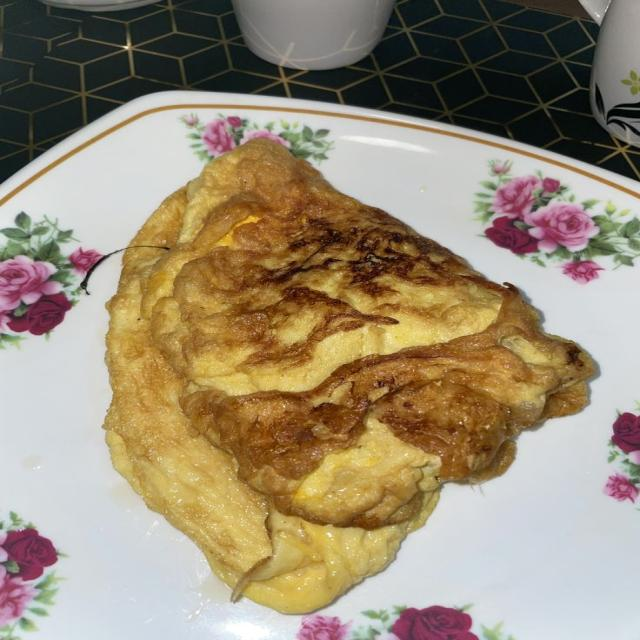omelette: (106, 139, 593, 612)
